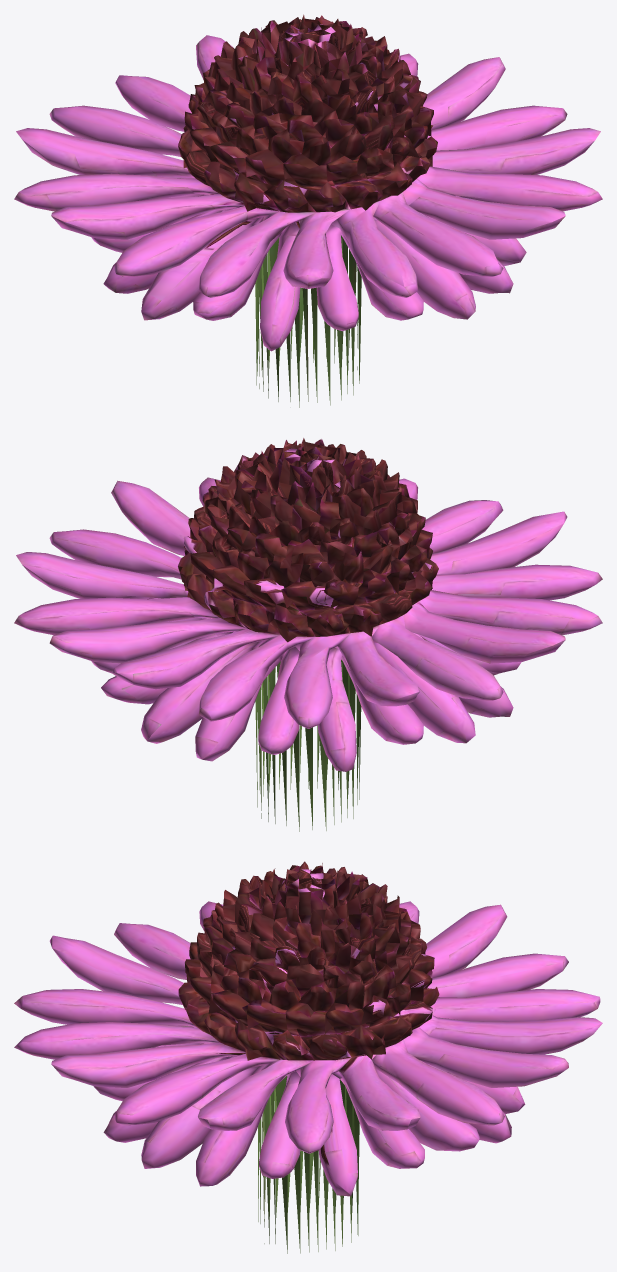
3 views of the same model, one above another, from view 1: azimuth 30°, elevation 25°; view 2: azimuth 150°, elevation 25°; view 3: azimuth 270°, elevation 25° (orthographic).
Parts seen in each view (by area): view 1: a70c8495; view 2: a70c8495; view 3: a70c8495.
Boxes of the visible parts, x1,y1,x2,y2 form: a70c8495: (14, 14, 602, 407); a70c8495: (14, 438, 602, 831); a70c8495: (14, 861, 602, 1253).
Bounding box in the file's own units: 0.0896 × 0.0587 × 0.0882.
1 material, 1 textured.
